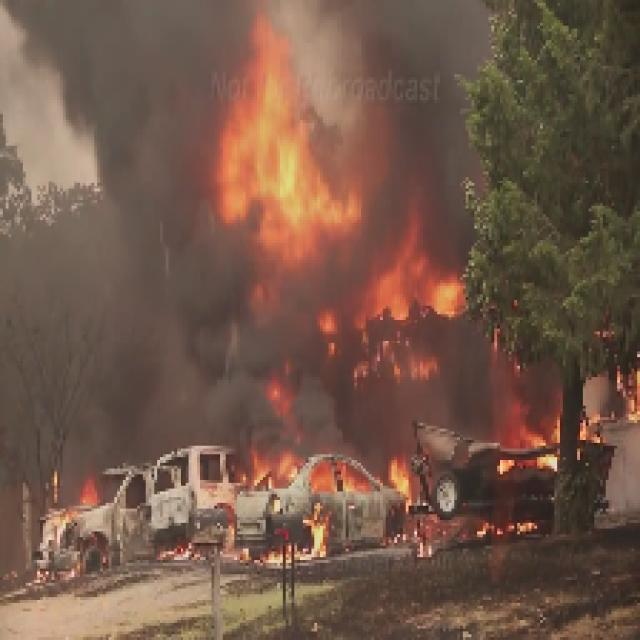Fire: (208, 11, 578, 568), (31, 417, 558, 592)
Smoke: (0, 0, 265, 291), (166, 188, 366, 478)
